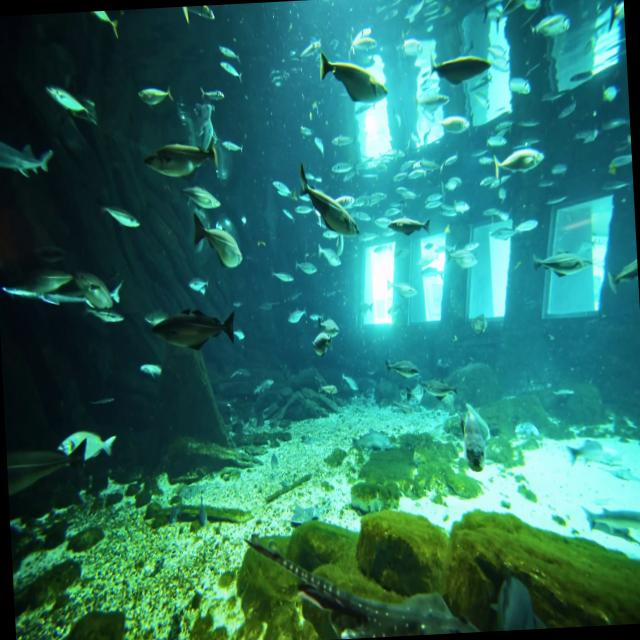fish: (297, 166, 363, 244), (318, 46, 386, 108), (142, 136, 214, 190), (192, 214, 248, 270), (428, 50, 490, 89), (494, 144, 544, 182)
